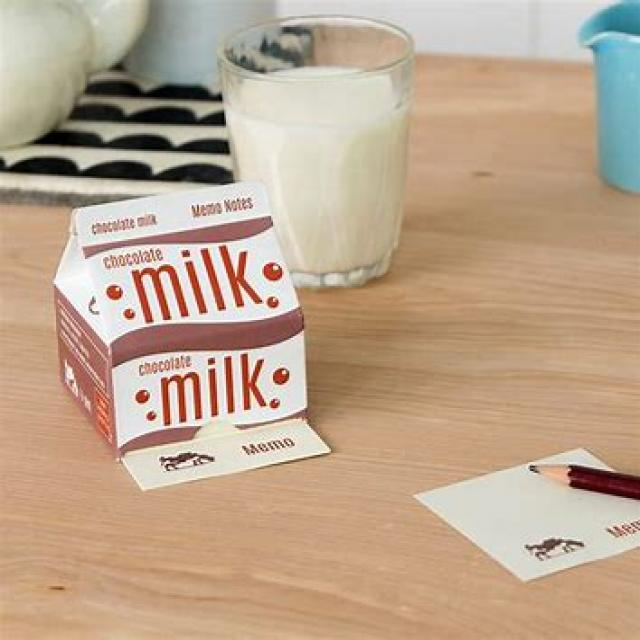non_white_jug: (53, 176, 311, 462)
